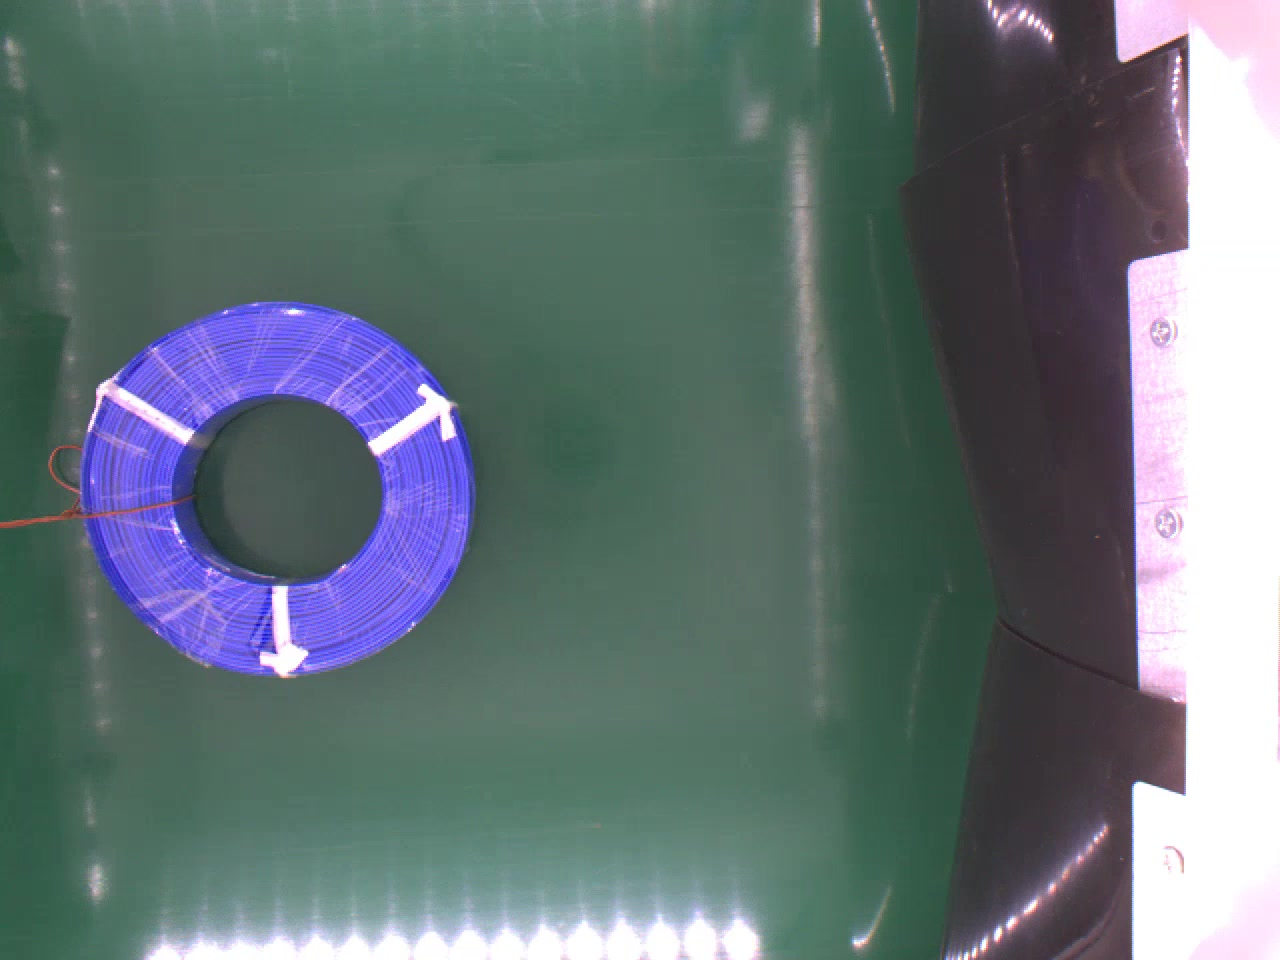blue: (75, 297, 467, 675)
